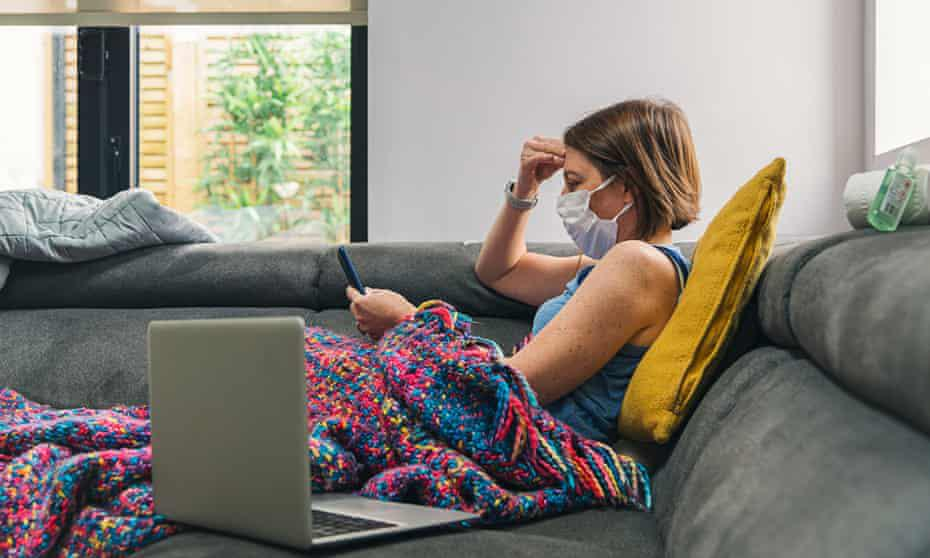OK: (555, 167, 639, 257)
